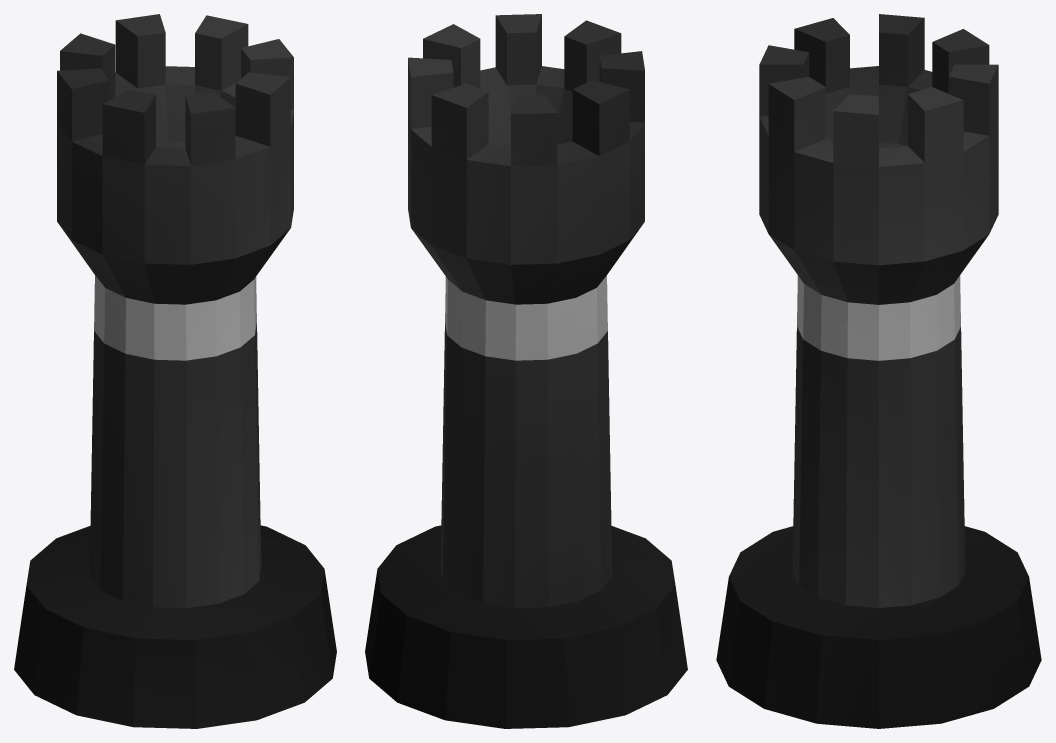
The model's file is ChessTower.glb.
The picture shows the model from 3 angles, left to right: view 1: azimuth 30°, elevation 25°; view 2: azimuth 150°, elevation 25°; view 3: azimuth 270°, elevation 25°; orthographic projection.
Parts seen in each view (by area): view 1: Tower; view 2: Tower; view 3: Tower.
Part boxes in pixels (box(x1,y1,x2,y2)): Tower: box(14, 14, 336, 728); Tower: box(365, 14, 687, 728); Tower: box(716, 14, 1041, 728).
Bounding box in the file's own units: 4.42 × 8.93 × 4.42.
Materials: 1 (1 with a texture image).
